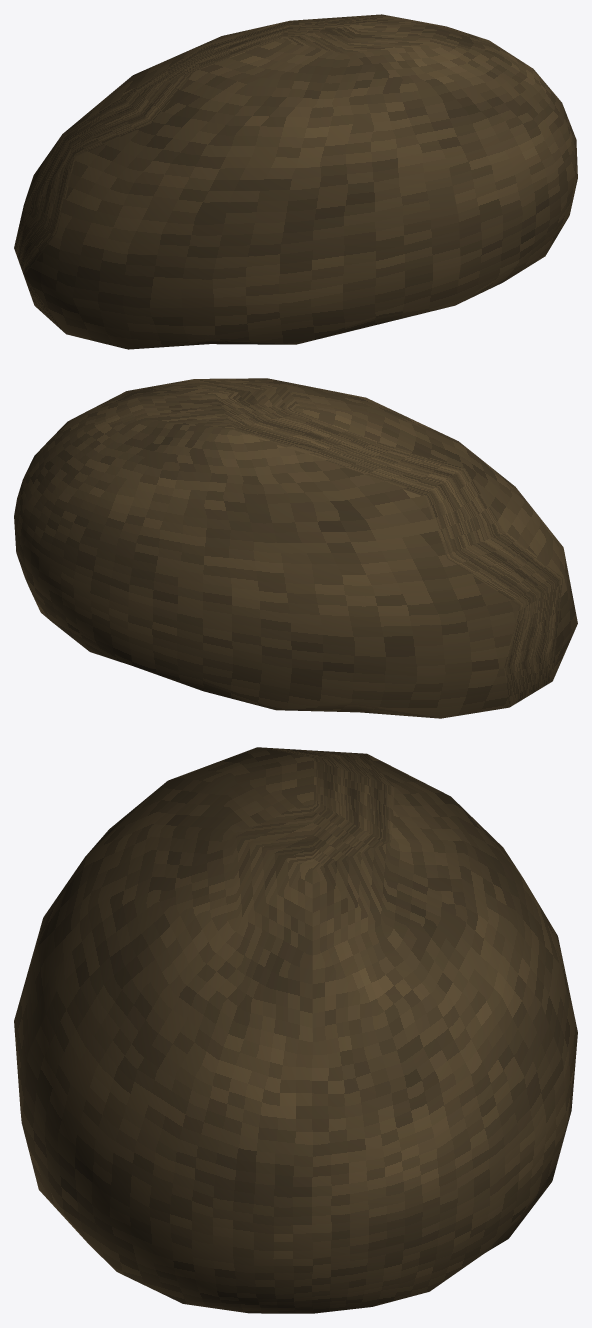
Rendered from stone_2.glb.
The picture shows the model from 3 angles, top to bottom: view 1: azimuth 30°, elevation 25°; view 2: azimuth 150°, elevation 25°; view 3: azimuth 270°, elevation 25°; orthographic projection. The views are drawn at different scales.
Parts seen in each view (by area): view 1: stone_2; view 2: stone_2; view 3: stone_2.
Boxes of the visible parts, left/top/right/bottom form: stone_2: left=14, top=14, right=577, bottom=349; stone_2: left=14, top=378, right=577, bottom=718; stone_2: left=14, top=747, right=577, bottom=1313.
Bounding box in the file's own units: 0.1517 × 0.0617 × 0.0943.
1 material, 1 textured.
